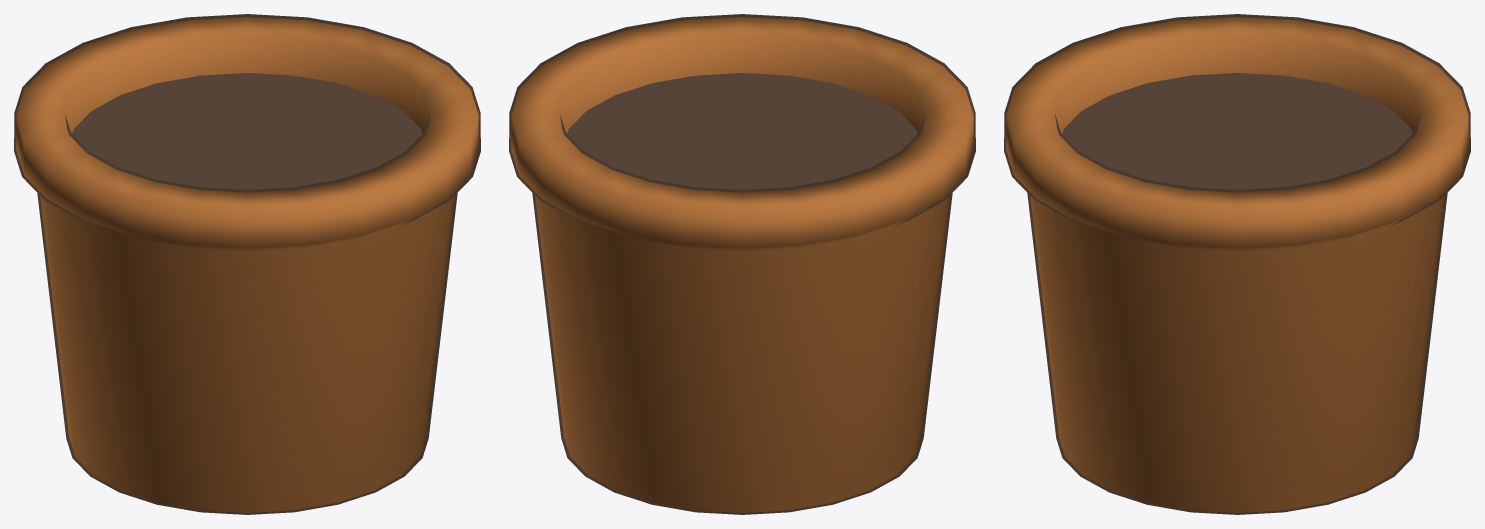
The model's file is prop_40008.glb.
The picture shows the model from 3 angles, left to right: view 1: azimuth 30°, elevation 25°; view 2: azimuth 150°, elevation 25°; view 3: azimuth 270°, elevation 25°; orthographic projection.
Visible parts, largest first — view 1: prop_40008; view 2: prop_40008; view 3: prop_40008.
Boxes of the visible parts, left/top/right/bottom form: prop_40008: left=14, top=14, right=480, bottom=514; prop_40008: left=509, top=14, right=975, bottom=514; prop_40008: left=1004, top=14, right=1470, bottom=514.
Size of the model in its own units: 0.83 by 0.6663 by 0.83.
